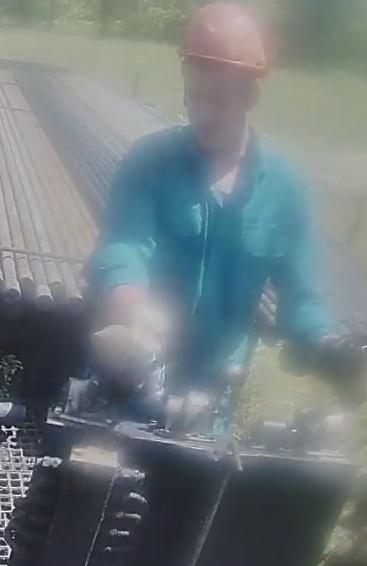gloves: (88, 297, 176, 401), (309, 321, 367, 411)
helmet: (169, 0, 272, 72)
vest: (88, 125, 292, 399)
